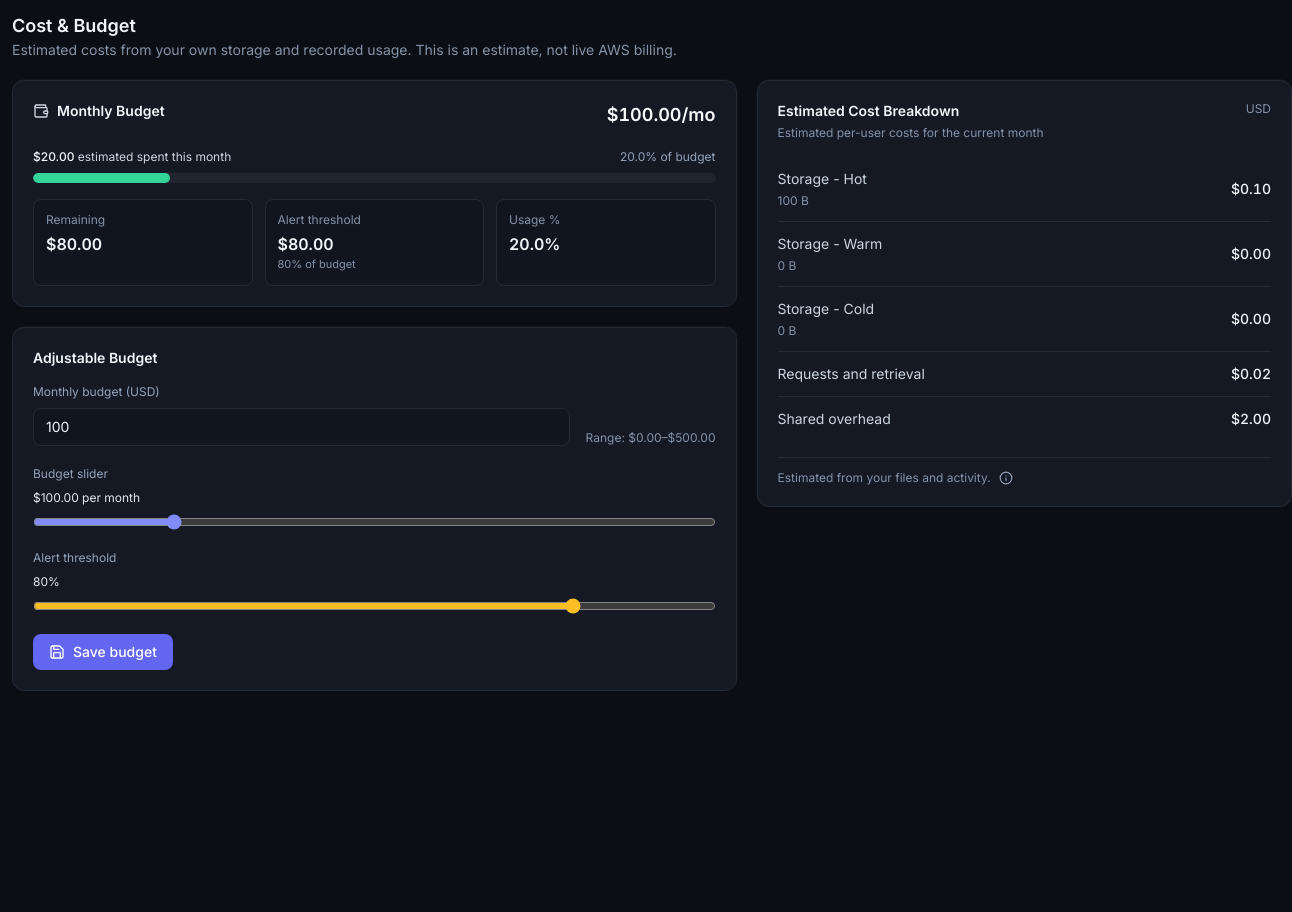
Test: Cost & Budget page › updates the overview from the budget slider and saves the value server-side
Set the slider named "Monthly budget slider" to "200": {"x": 308, "y": 522} [33,514,716,530]
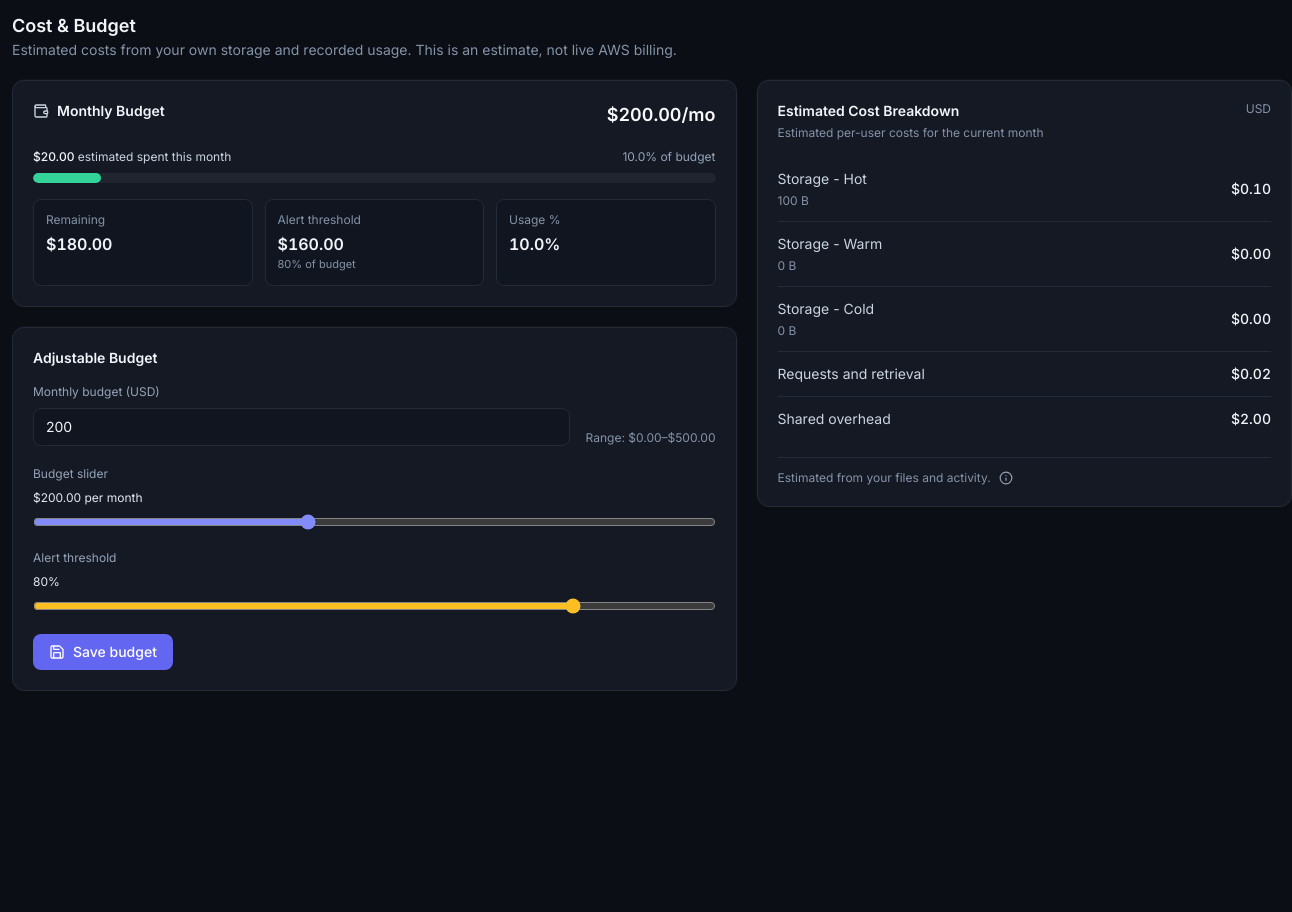
Expected: the text named "Budget $200.00 per month" is shown, [607,101,716,129]
Expected: the text "10.0% of budget" is shown, [622,149,716,165]
Click the button "Save budget": {"x": 103, "y": 652} [33,634,173,670]
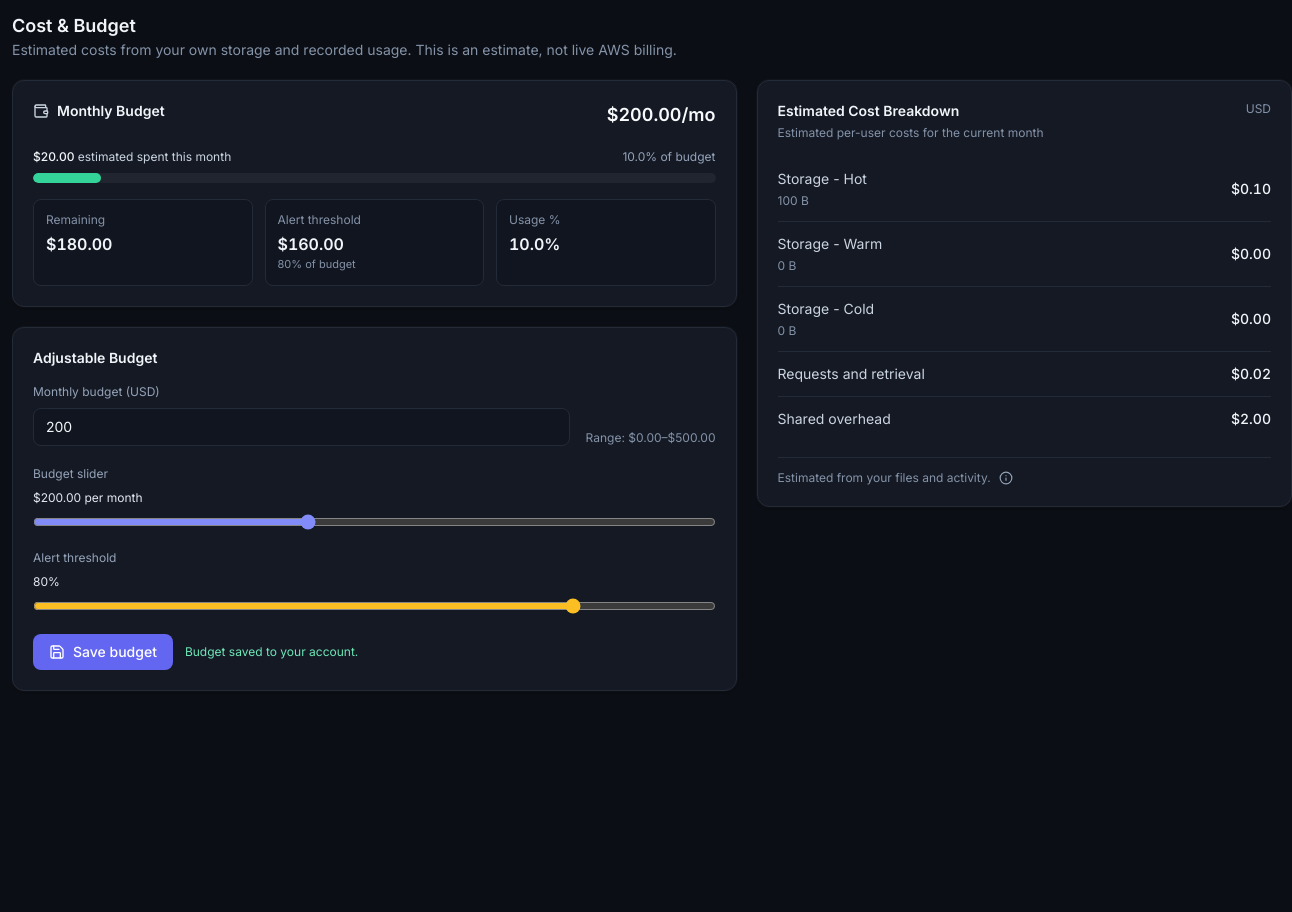
Expected: the text "Budget saved to your account." is shown, [185,644,358,660]
